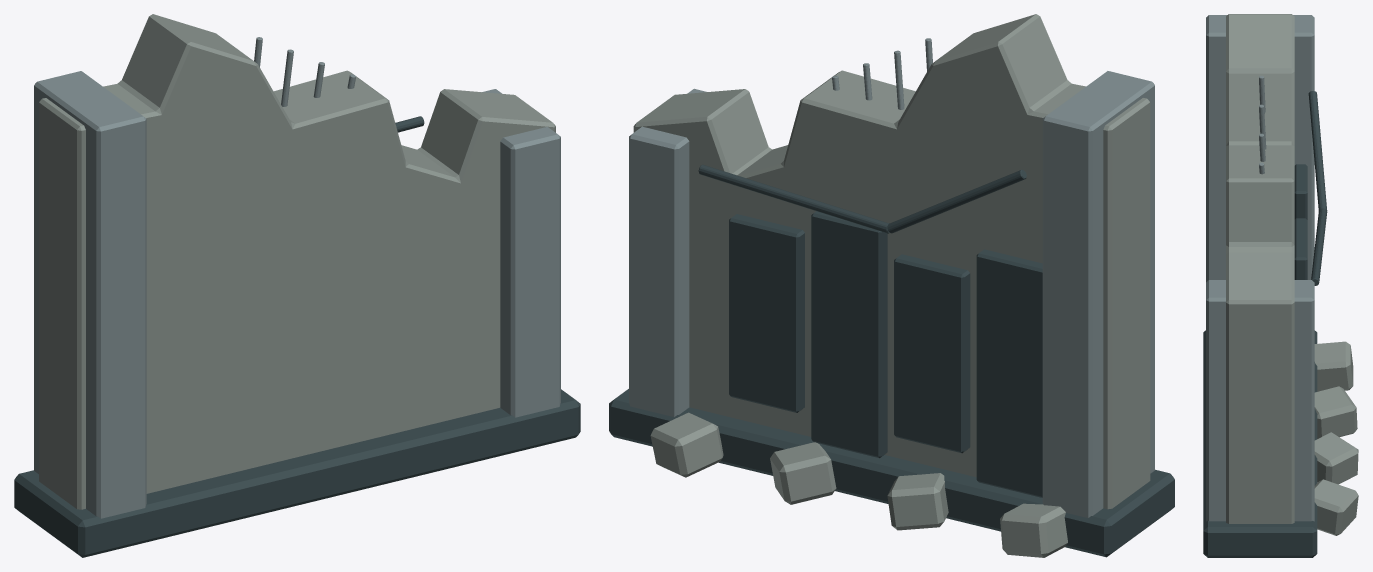
Rendered from ruin_wall_broken.glb.
3 renders of one model, left to right at view 1: azimuth 30°, elevation 25°; view 2: azimuth 150°, elevation 25°; view 3: azimuth 270°, elevation 25°, orthographic. The views are drawn at different scales.
Parts seen in each view (by area): view 1: ruin_wall_broken_Surface; view 2: ruin_wall_broken_Surface; view 3: ruin_wall_broken_Surface.
Boxes of the visible parts, bbox=[...] form: ruin_wall_broken_Surface: bbox=[14, 14, 580, 557]; ruin_wall_broken_Surface: bbox=[609, 14, 1174, 557]; ruin_wall_broken_Surface: bbox=[1203, 14, 1358, 557].
Size of the model in its own units: 4.2 by 3.84 by 1.36.
Materials: 1 (1 with a texture image).
